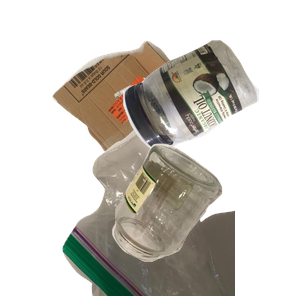cardboard: (50, 38, 233, 184)
glass: (110, 141, 300, 300)
plastic: (120, 37, 300, 185)
trash: (60, 120, 300, 300)
